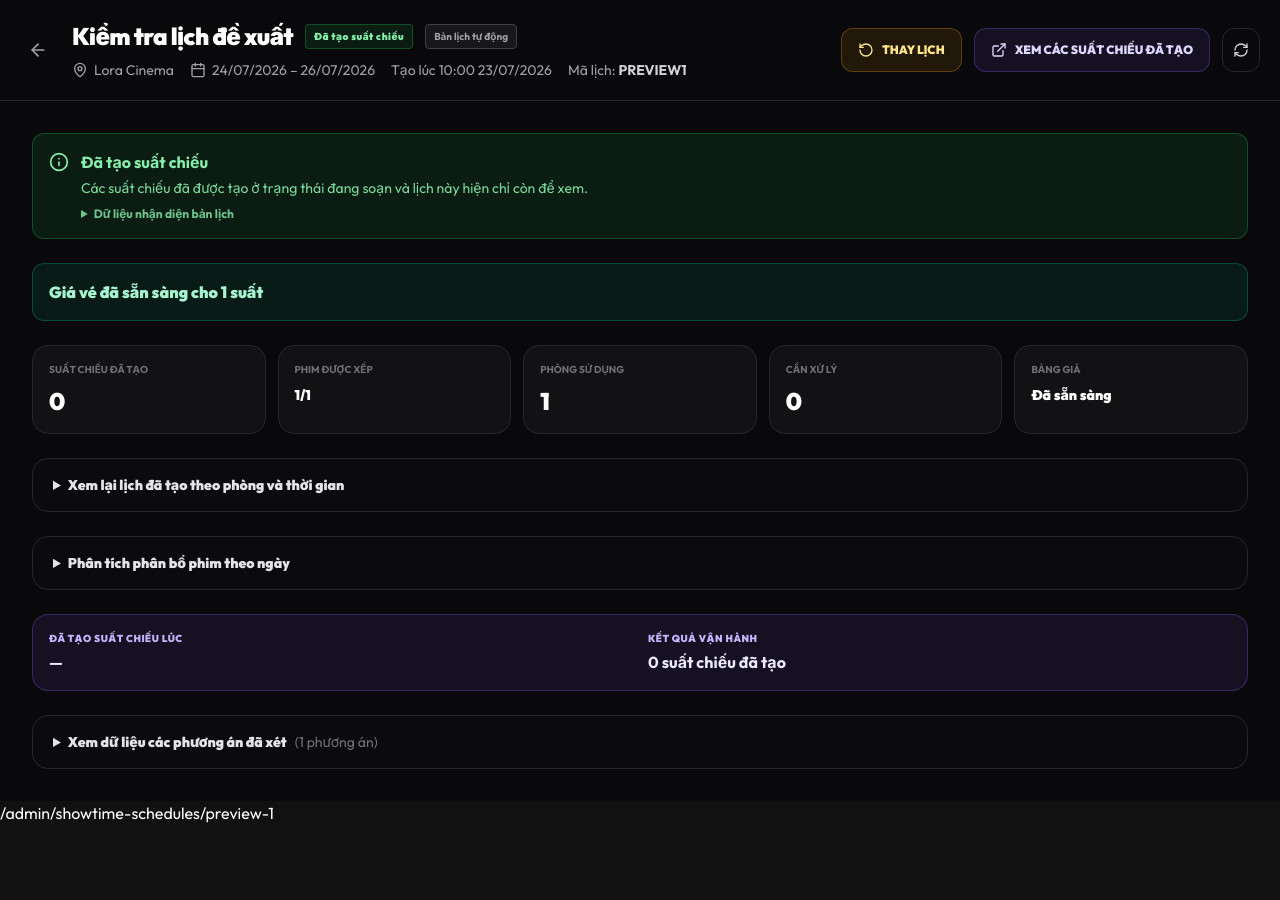
Test: AdminAutoSchedulePreviewPage Milestone C › atomically cancels an all-draft batch before opening the recreate form
Click the button "Thay lịch" at (901, 50), box x1=841 y1=28 x2=962 y2=72
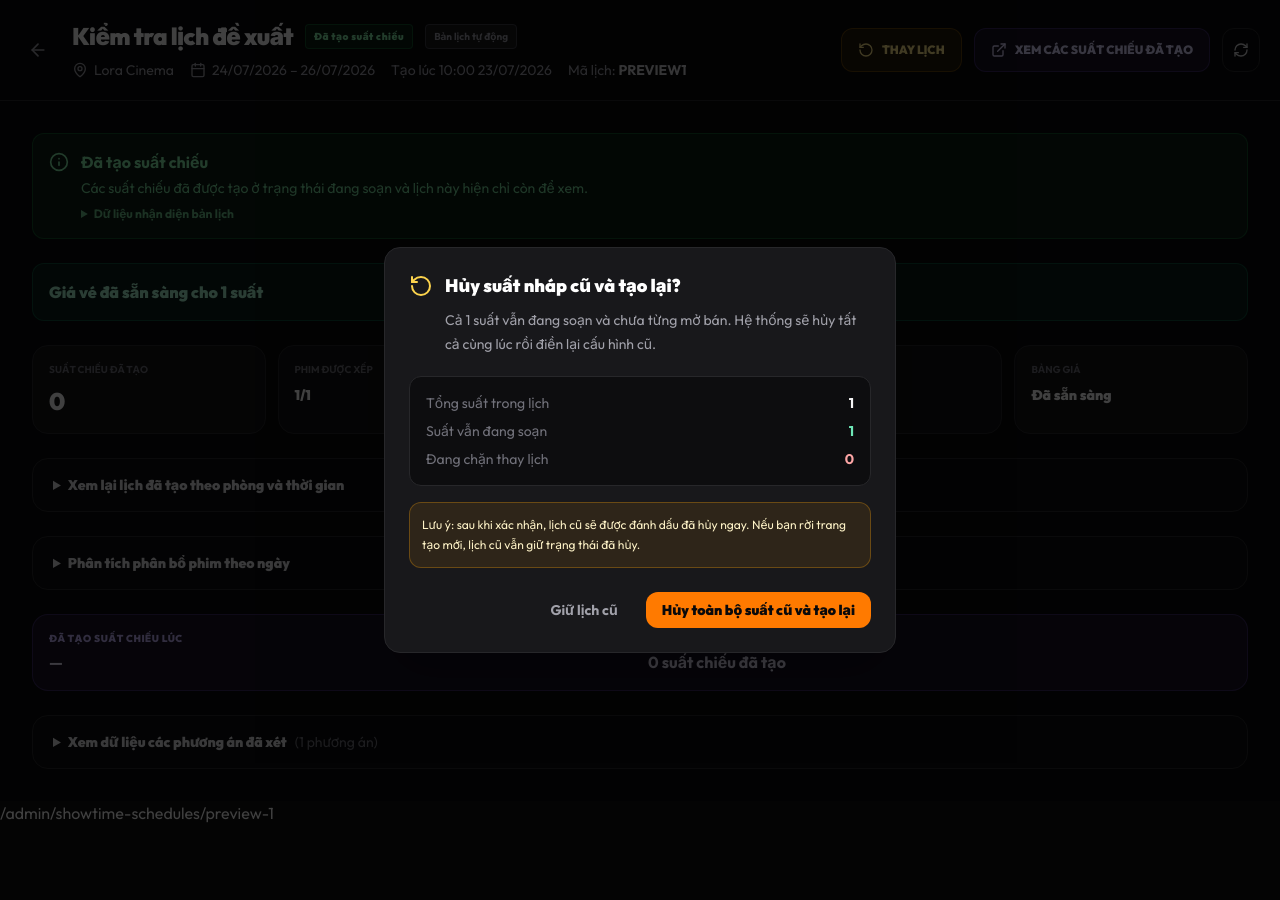
Now the dialog shows "Cả 1 suất vẫn đang soạn và chưa từng mở bán", box x1=445 y1=311 x2=856 y2=353
Click the button "Hủy toàn bộ suất cũ và tạo lại" at (758, 610), box x1=646 y1=592 x2=871 y2=628
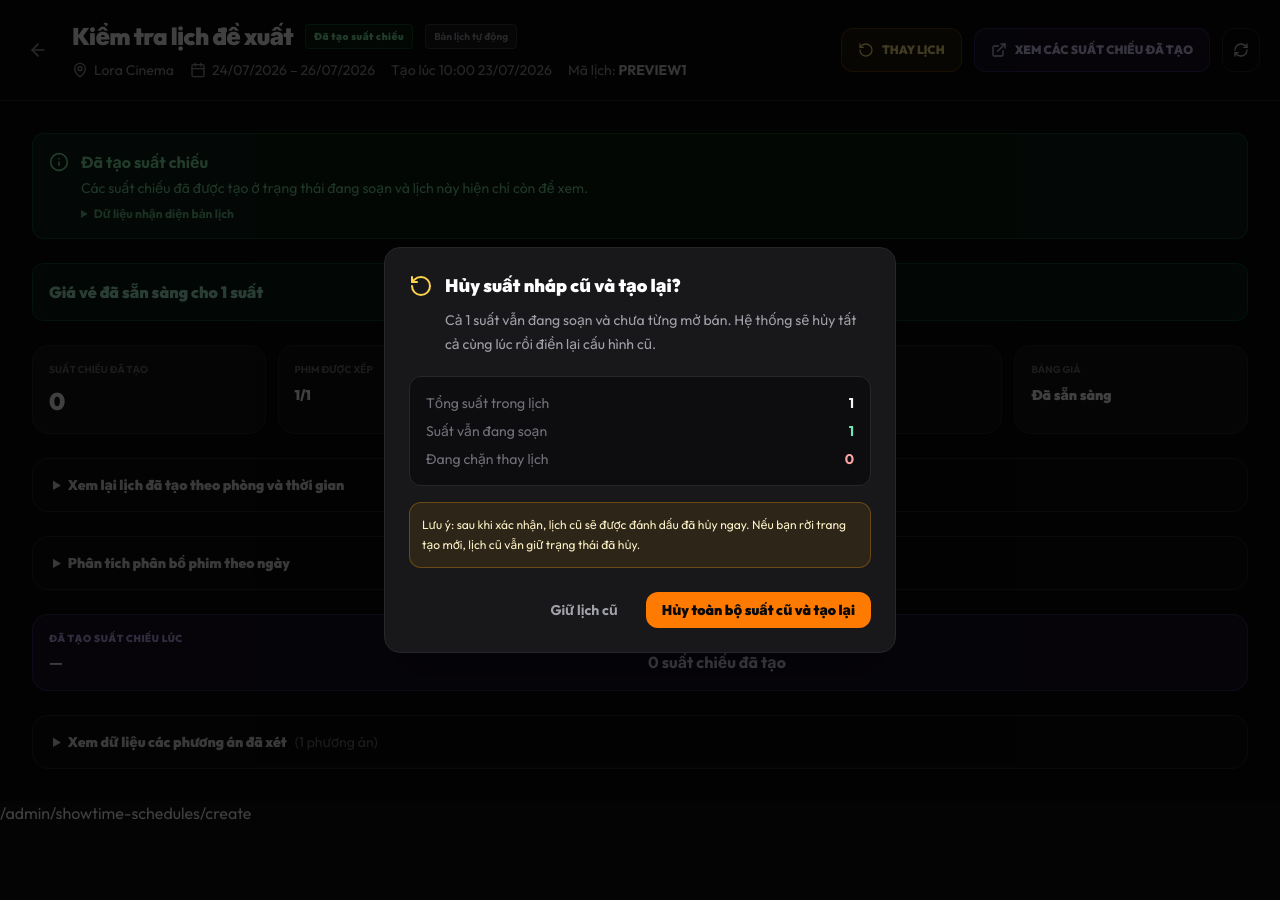
Now the text with test id "location" reads "/admin/showtime-schedules/create", box x1=0 y1=803 x2=251 y2=823
